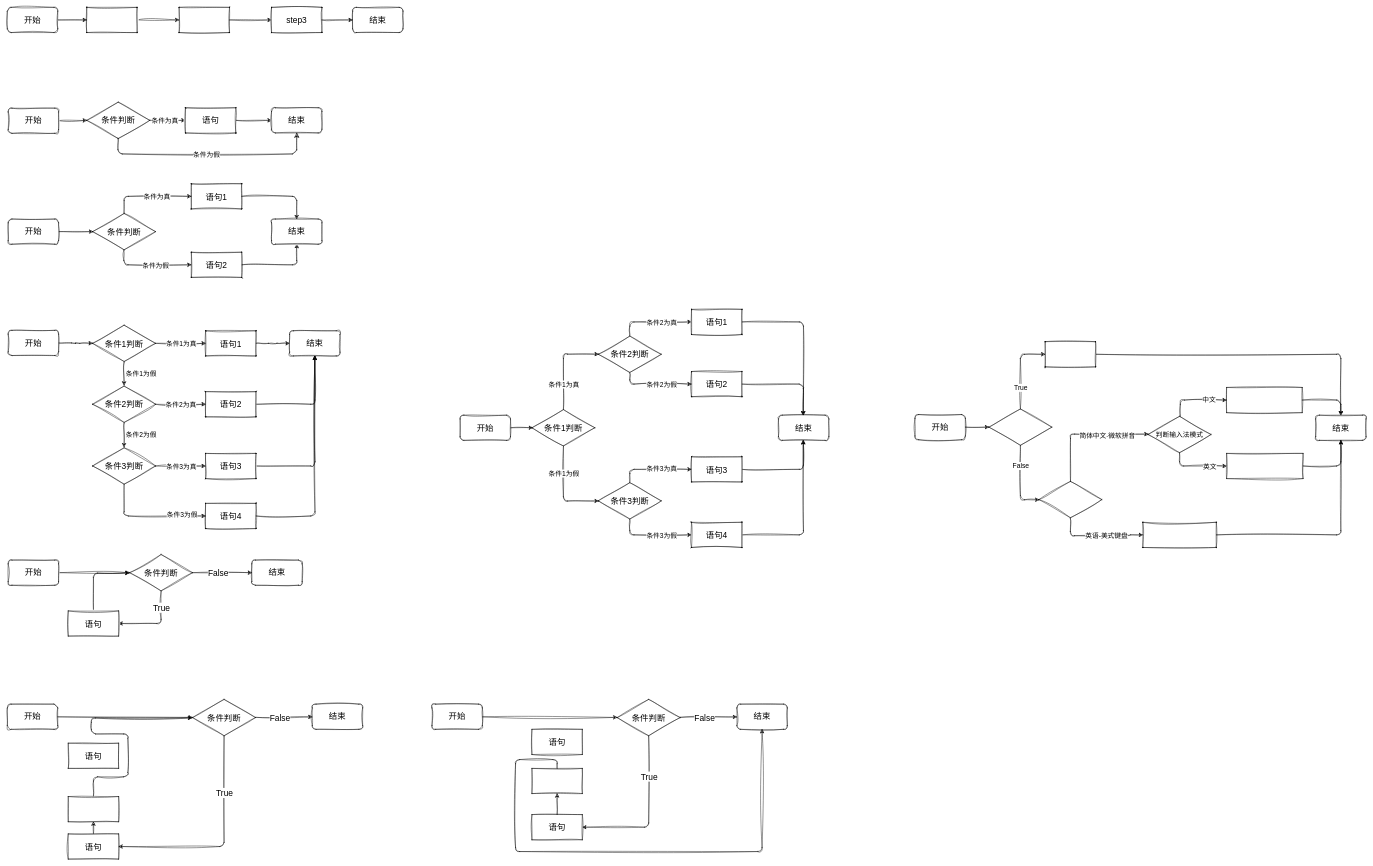
Image size: 1373x866. Some labels were removed from this diagram. Each missing label, with the centre of its shape:
"break" goes at (557,781).
"continue" goes at (93,809).
"step1" goes at (111,20).
"step2" goes at (204,20).
"判断输入法语言" goes at (1070,499).
"打印“大写状态”" goes at (1070,354).
"打印“微软拼音-中文”" goes at (1264,400).
"打印“微软拼音-英文”" goes at (1264,466).
"打印“英语-美式键盘”" goes at (1179,534).
"是否为大写状态" goes at (1020,427).
